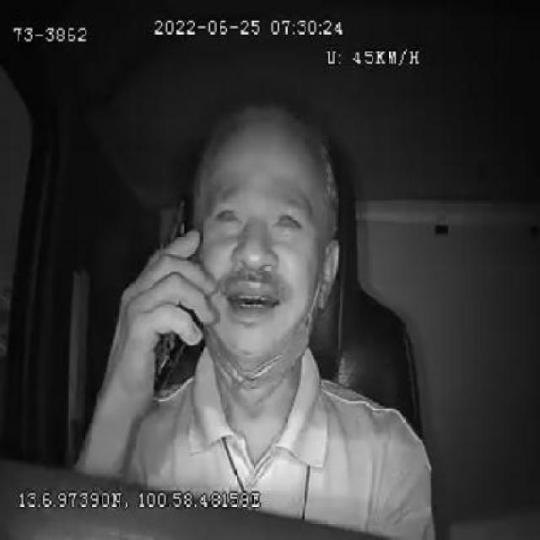phone: (150, 201, 197, 391)
